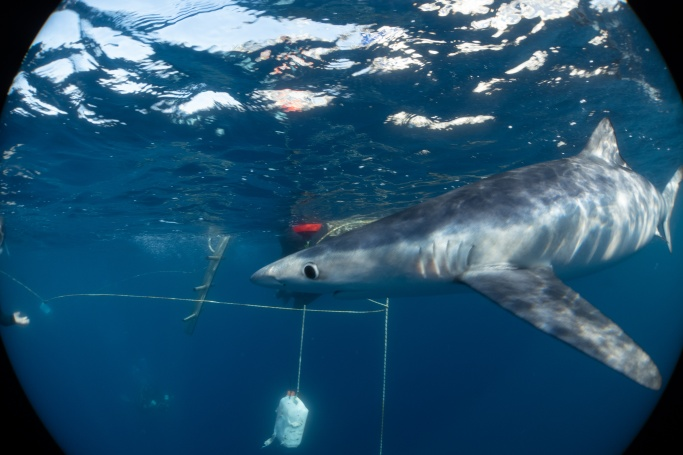Azul: (237, 107, 677, 396)
